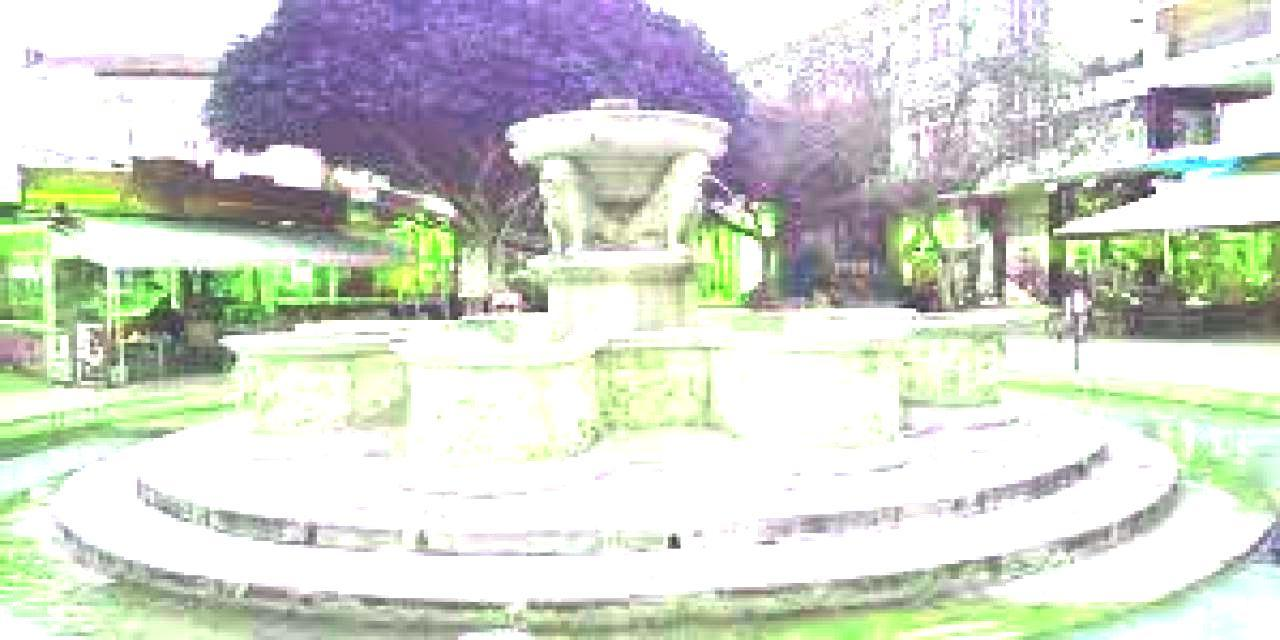Liontaria: (223, 102, 1014, 503)
